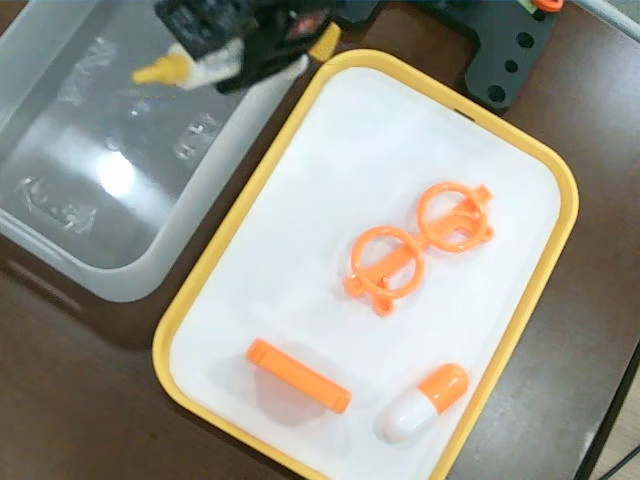pill: (378, 363, 474, 447)
